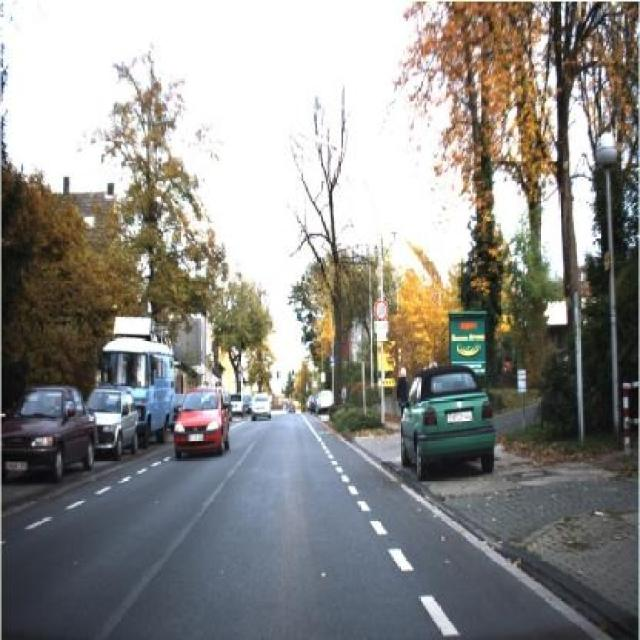forb_speed_over_30: (373, 298, 390, 324)
